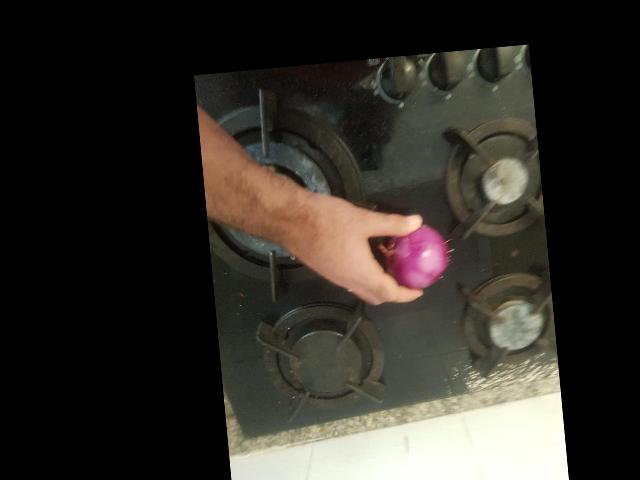onion: (431, 332, 499, 394)
